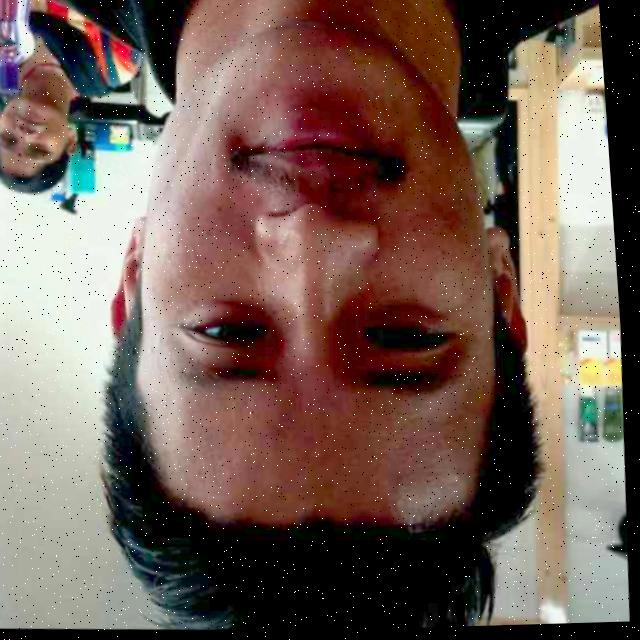puffy_eyes: (338, 293, 434, 355), (187, 299, 277, 331)
